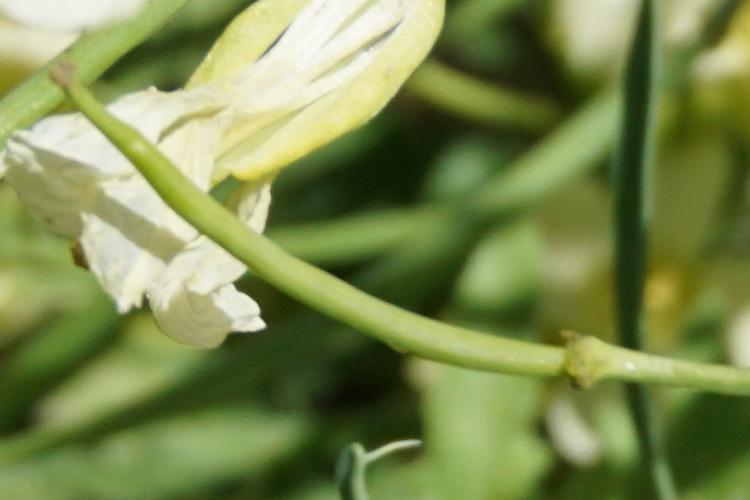white: (33, 3, 450, 356)
